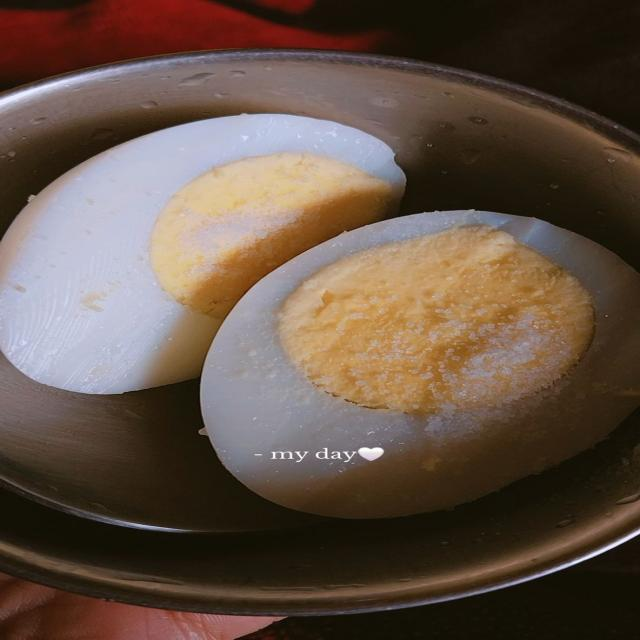eggs: (0, 111, 640, 552)
